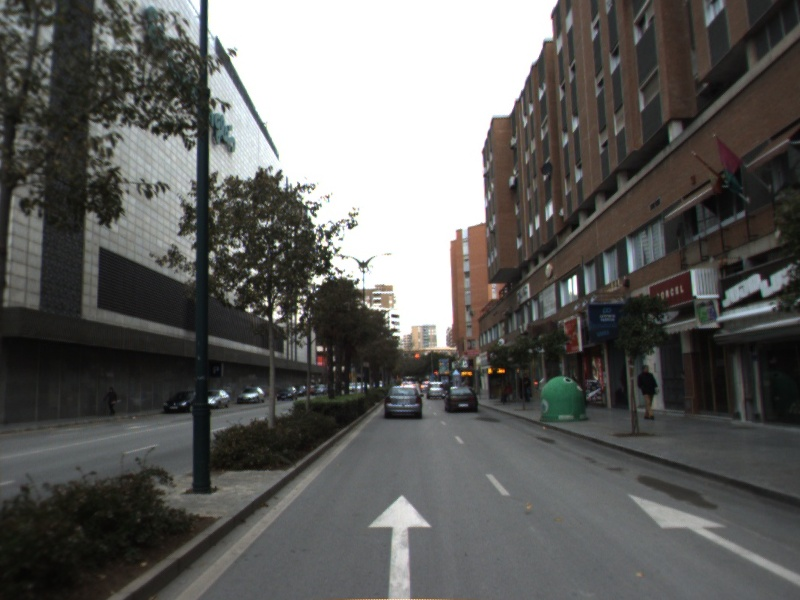STRAIGHT: (625, 488, 800, 586), (364, 491, 437, 600)
